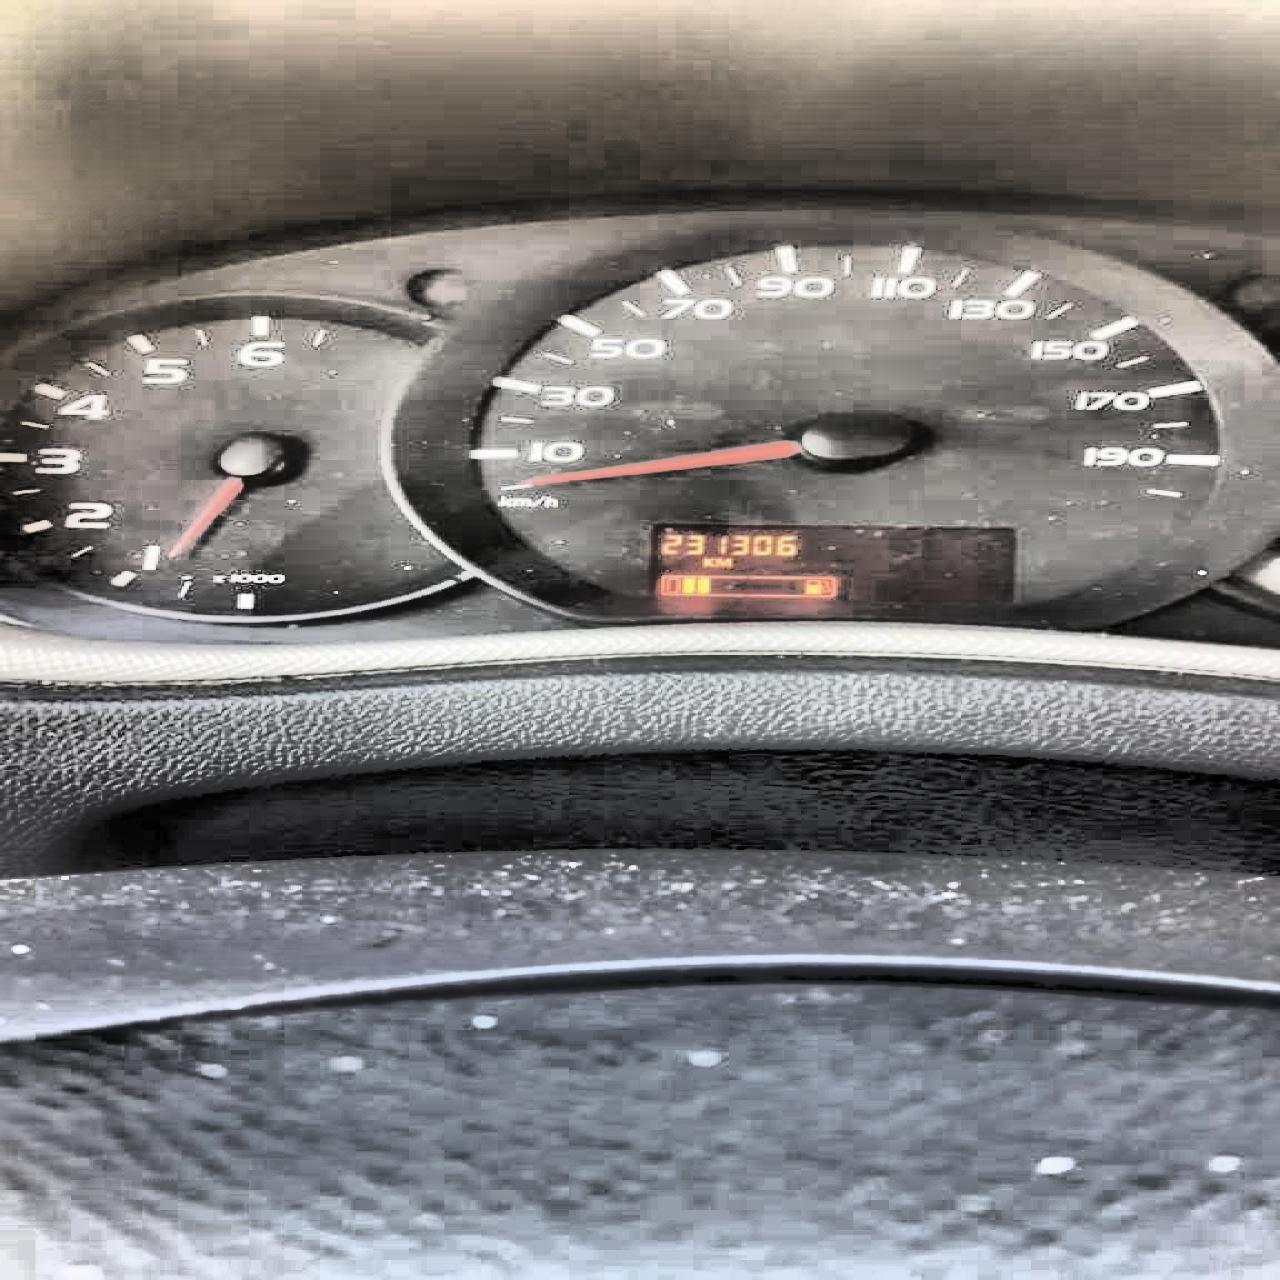0: (749, 535, 771, 554)
1: (712, 535, 727, 554)
2: (658, 532, 680, 553)
3: (682, 533, 702, 556), (729, 535, 749, 554)
6: (774, 535, 796, 554)
X: (713, 557, 731, 567), (700, 557, 713, 567)
odometer: (642, 518, 1020, 613)
